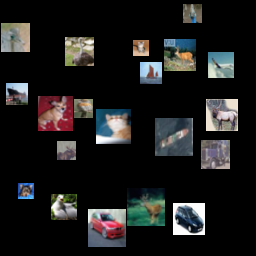airplane: (208, 52, 234, 78)
automobile: (88, 209, 126, 247), (173, 203, 205, 235)
bird: (1, 23, 30, 52), (65, 37, 94, 66), (51, 194, 77, 220), (183, 4, 202, 23), (74, 99, 93, 118)
cat: (96, 109, 131, 144), (133, 40, 149, 56)
deer: (127, 188, 165, 226), (164, 39, 196, 71), (206, 99, 238, 131), (57, 141, 76, 160)
dog: (38, 96, 73, 131), (18, 183, 34, 199)
ship: (155, 118, 193, 156), (6, 83, 28, 105), (140, 62, 162, 84)
